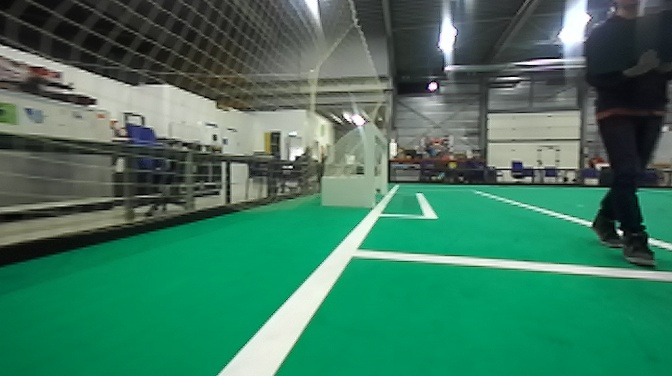goalpost: (360, 123, 375, 209), (378, 135, 388, 200)
human: (579, 2, 670, 269)
